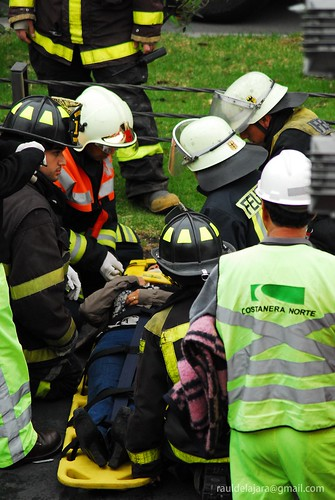helmet: (170, 115, 235, 165), (81, 82, 136, 135), (155, 217, 221, 259), (255, 149, 309, 200)
